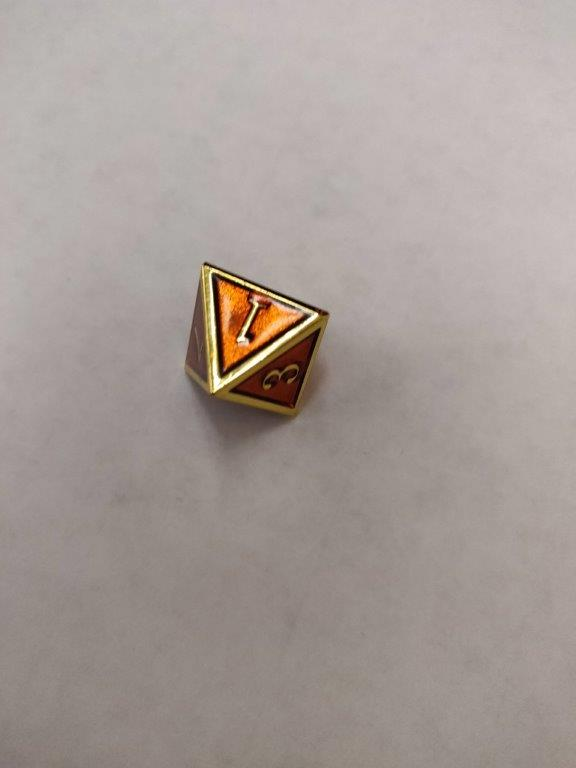d8-1: (180, 257, 330, 422)
